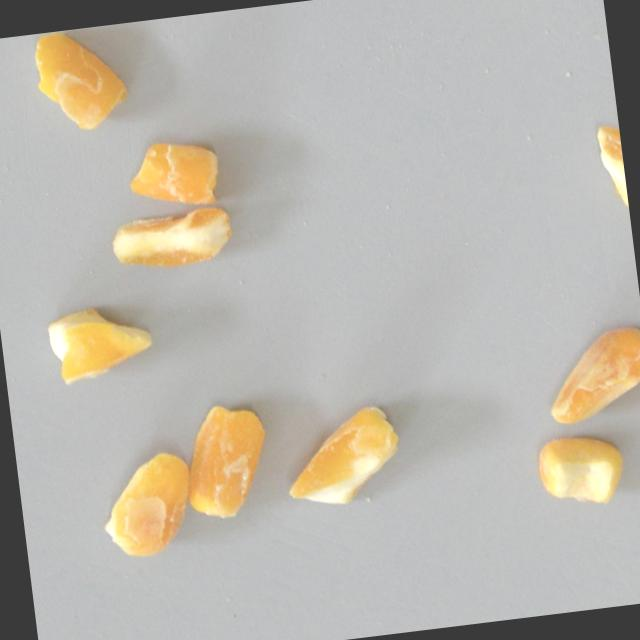dañado: (274, 394, 409, 512), (173, 389, 280, 531), (93, 446, 201, 571), (26, 22, 134, 138), (41, 296, 160, 392), (536, 321, 640, 429), (105, 200, 239, 277), (122, 130, 225, 216), (585, 118, 631, 228)
no_desgerminado: (530, 427, 631, 515)
